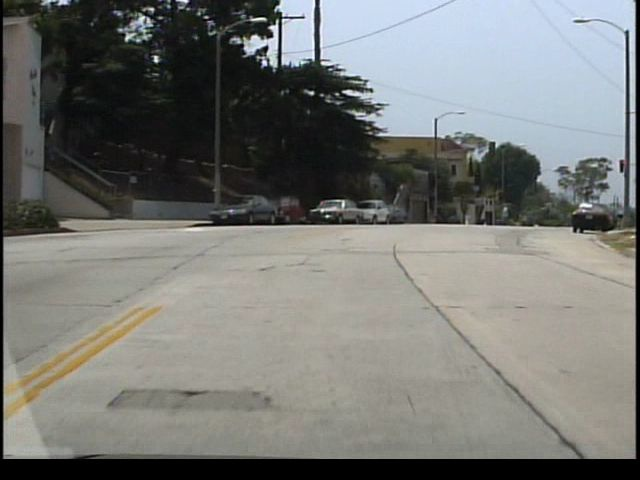person: (504, 205, 512, 226)
